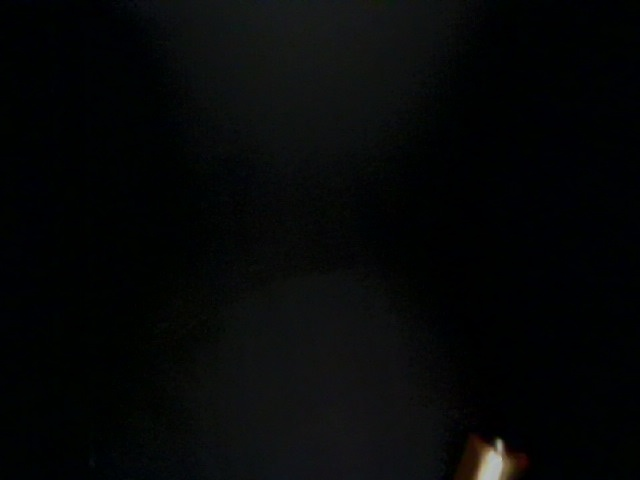QTLJ: (80, 422, 196, 480)
